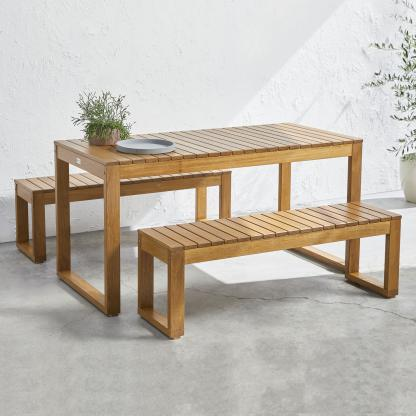table: (47, 116, 368, 320)
